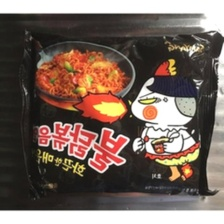snack: (13, 20, 224, 208)
